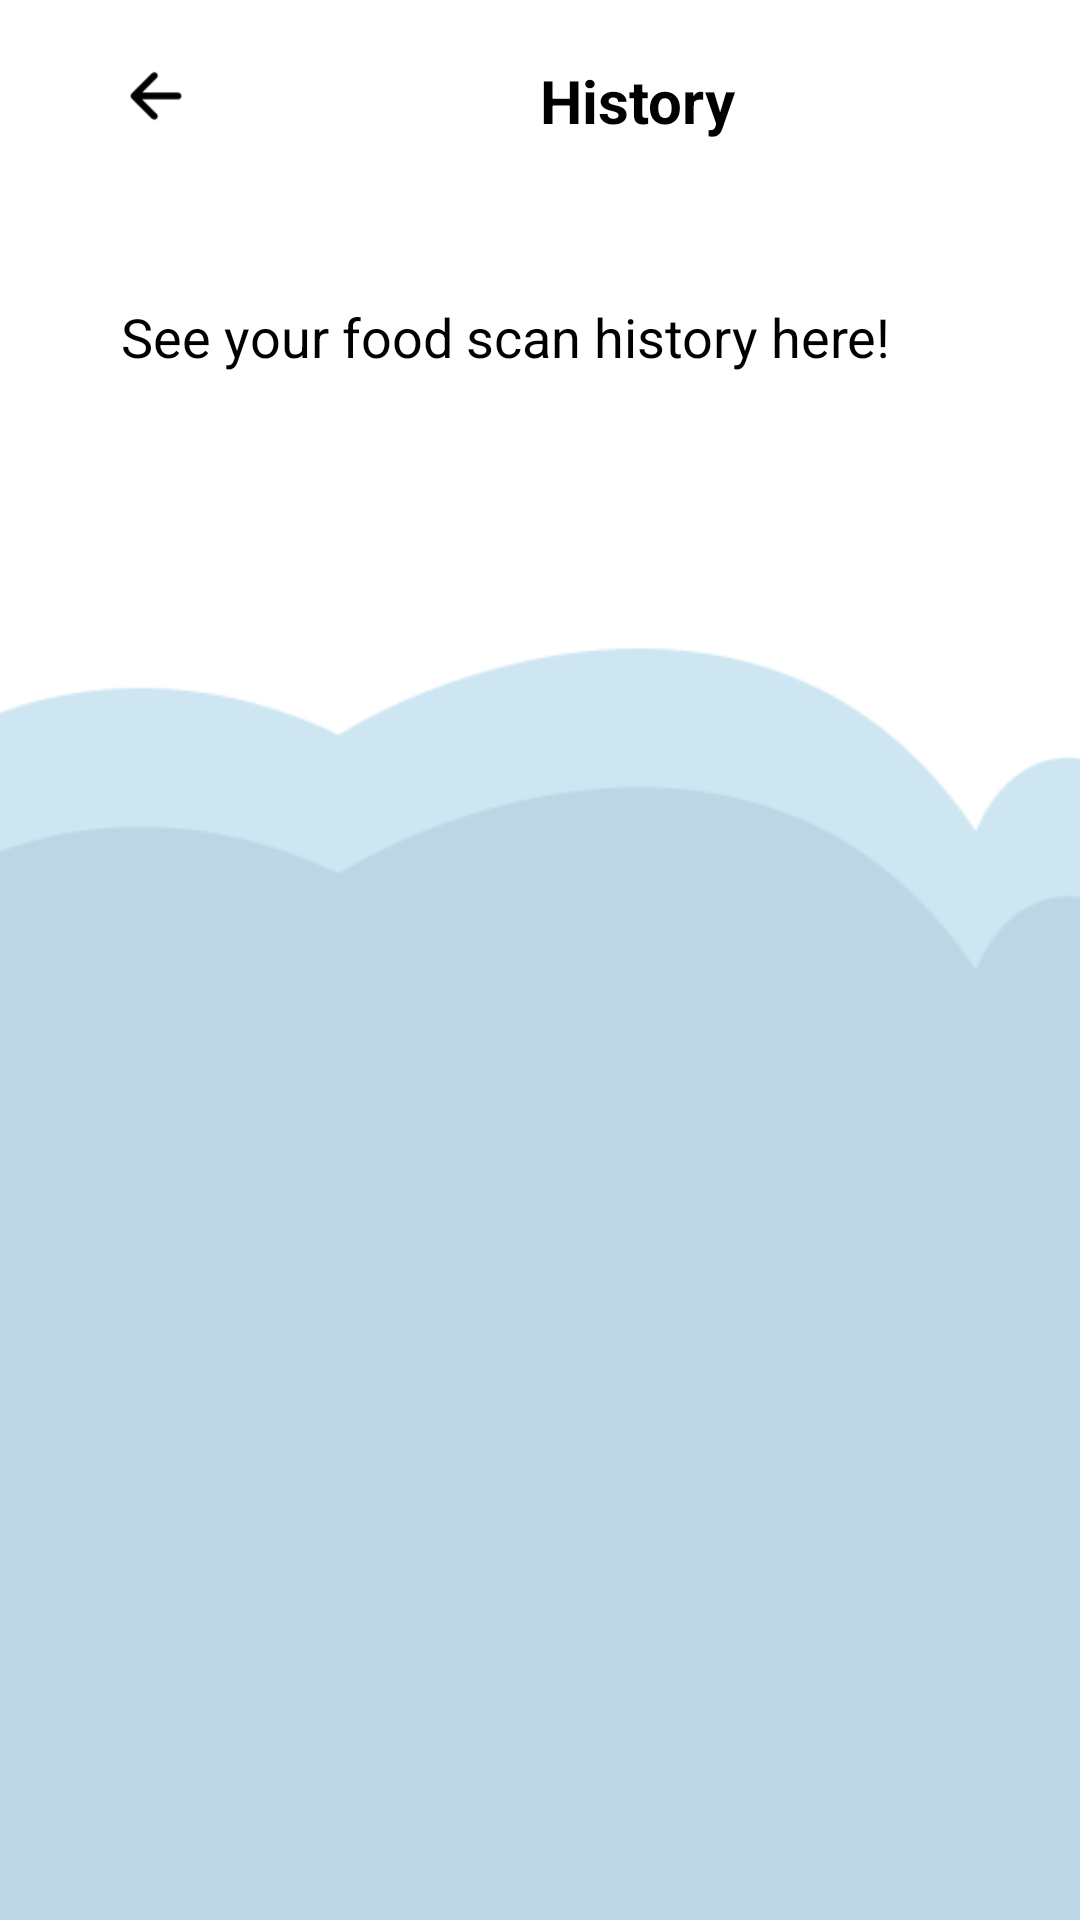

Screen size 1080×1920. Icon name, then its center in pixels as point (x, y):
Back Icon: point (156, 96)
